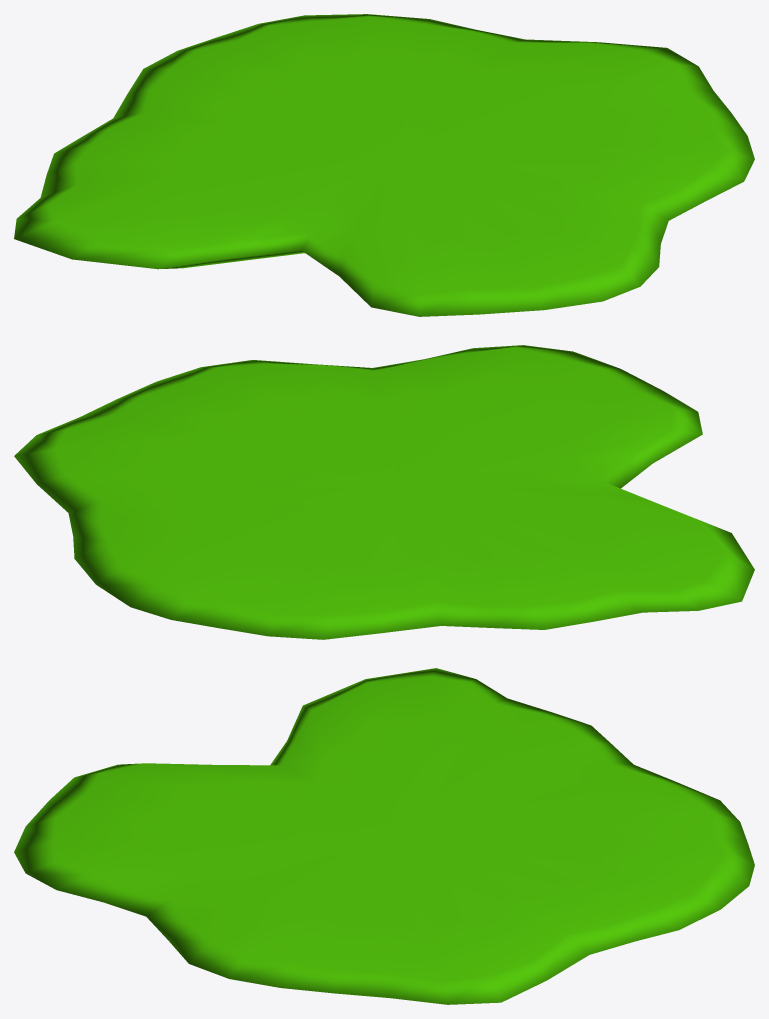
The model's file is Egg.fbx.
3 renders of one model, top to bottom at view 1: azimuth 30°, elevation 25°; view 2: azimuth 150°, elevation 25°; view 3: azimuth 270°, elevation 25°, orthographic.
Visible parts, largest first — view 1: Egg; view 2: Egg; view 3: Egg.
Part boxes in pixels (x1,y1,x2,y2): Egg: (14,14,754,316); Egg: (14,345,754,639); Egg: (14,668,754,1004).
Bounding box in the file's own units: 1.2 × 0.0443 × 1.12.
